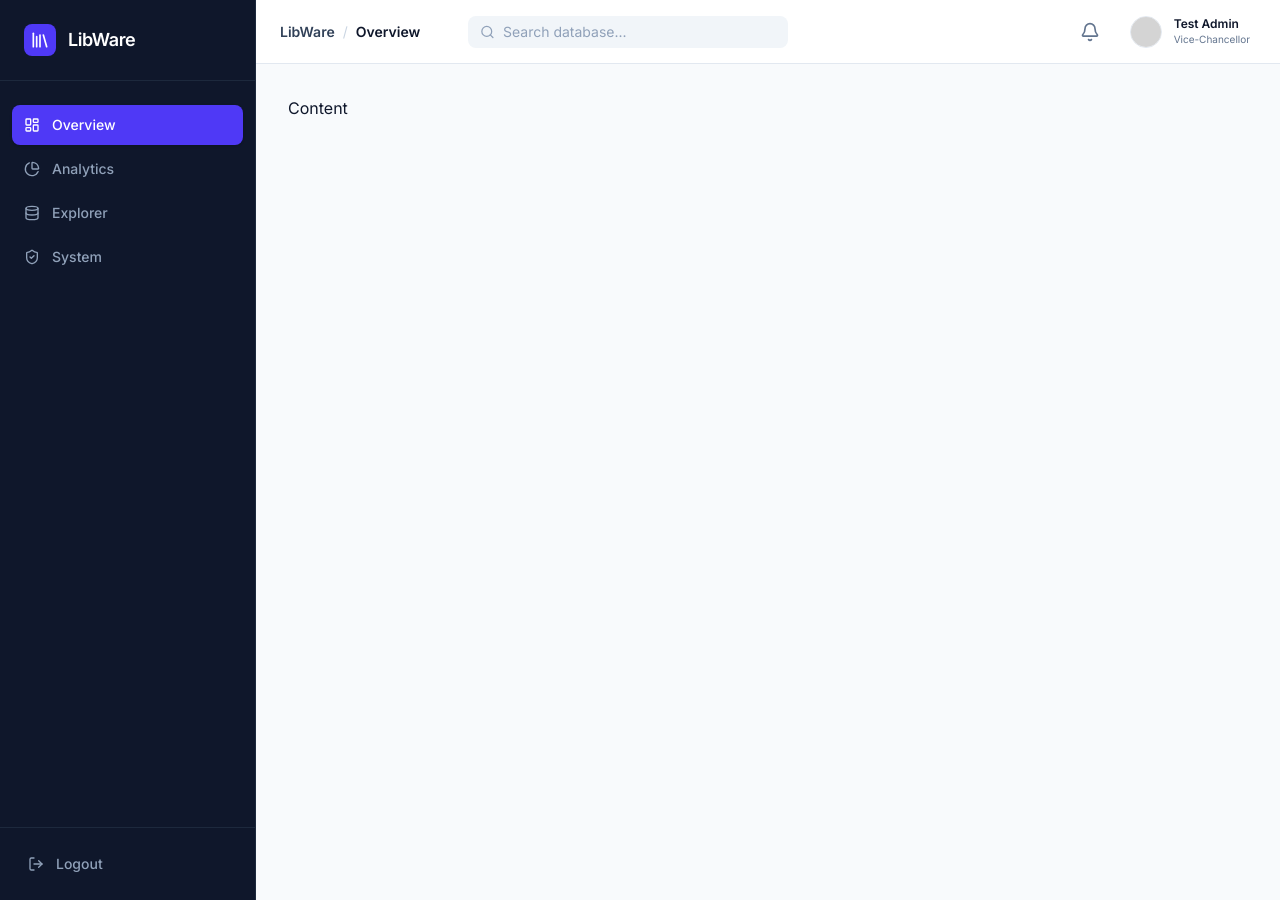
Test case: Feature Verification › Feature 1 & 3: Settings Modal
Note: Open Settings Modal via User Menu
Step 1. Click the button "Test Admin Vice-chancellor" → (1190,32), box [1124,10,1256,54]
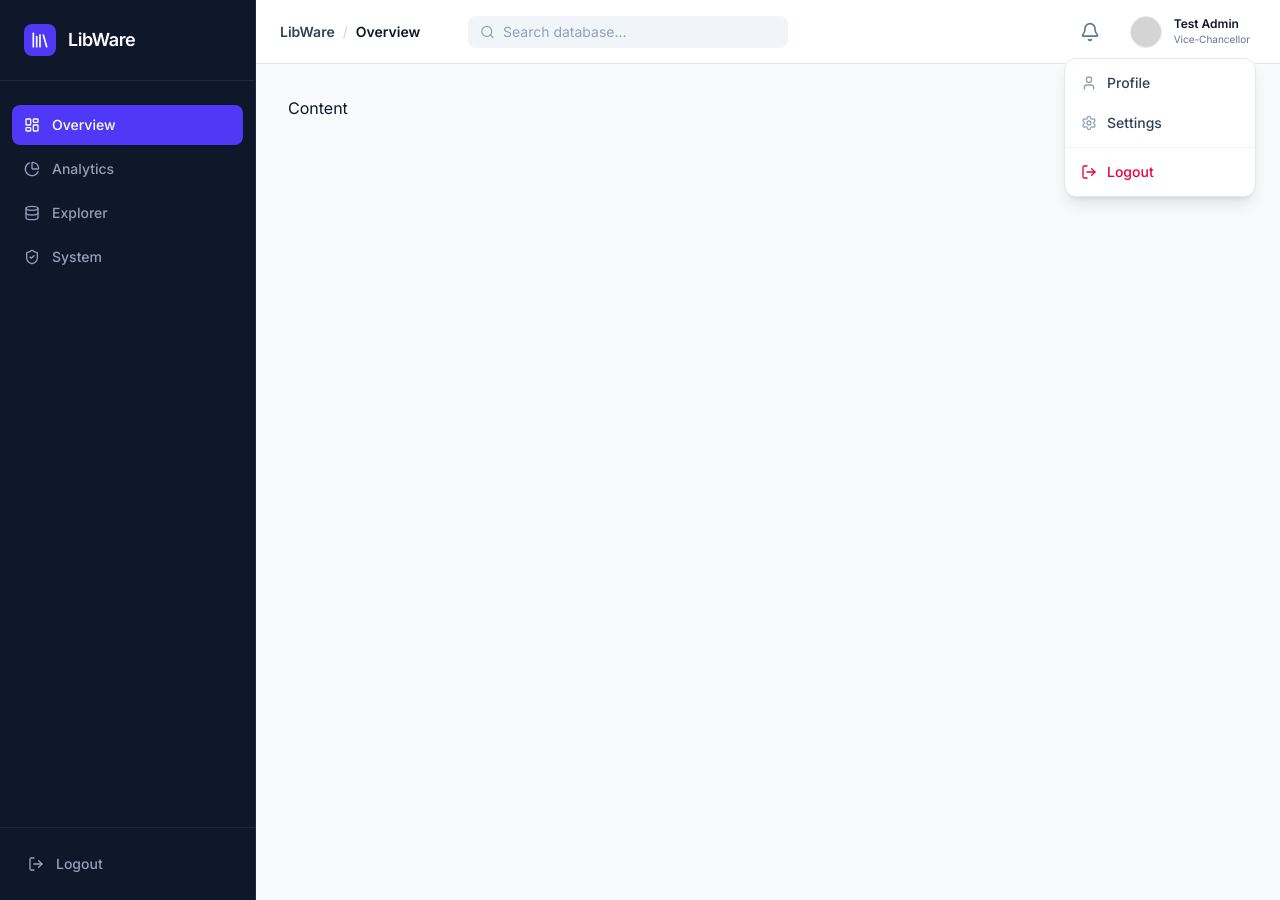
Step 2. Click the button "Settings" → (1160,122), box [1065,102,1255,142]
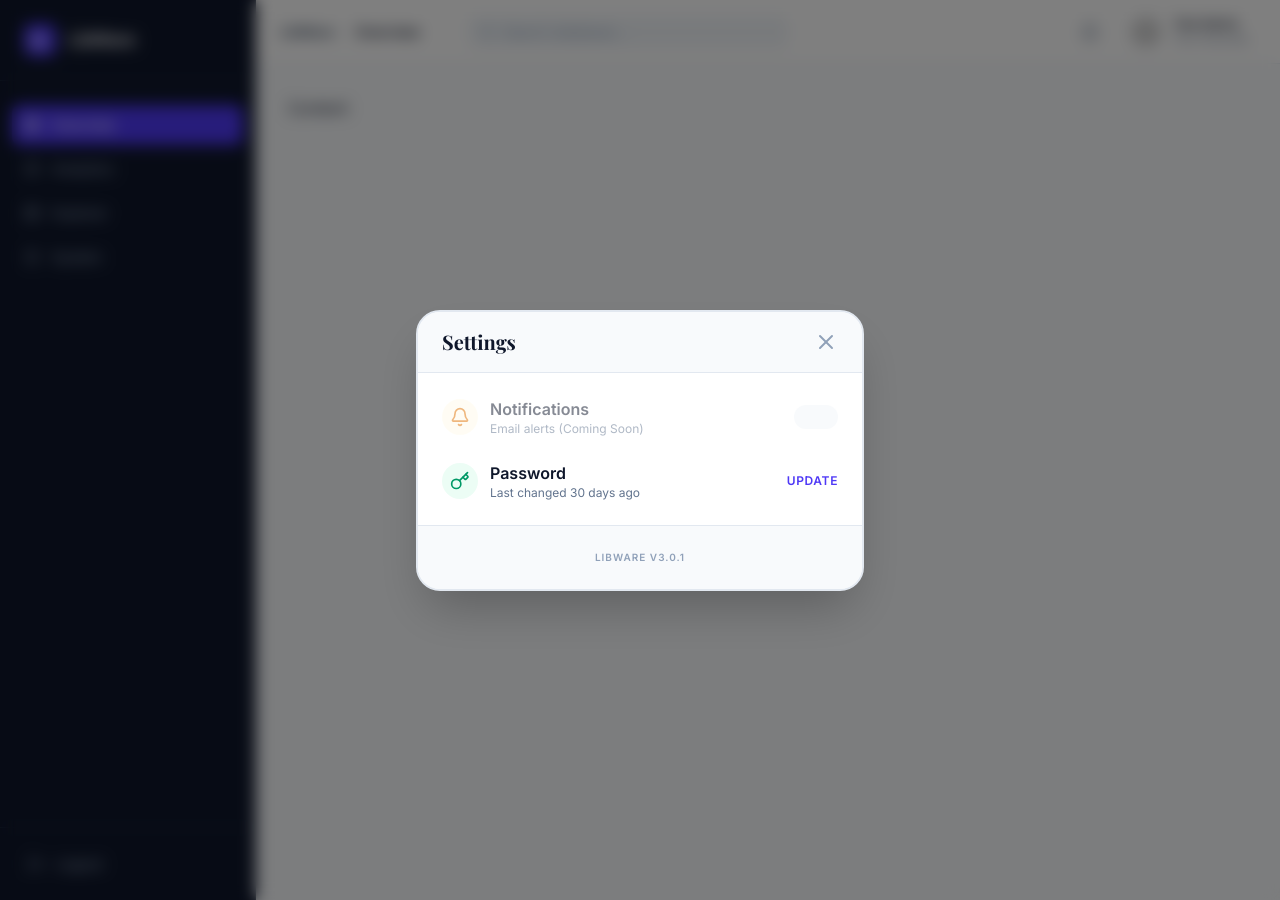
Check: the text "Password" is shown, box [490,462,566,482]
